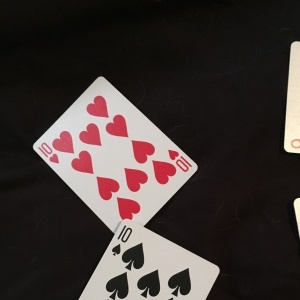card: (32, 75, 197, 225)
